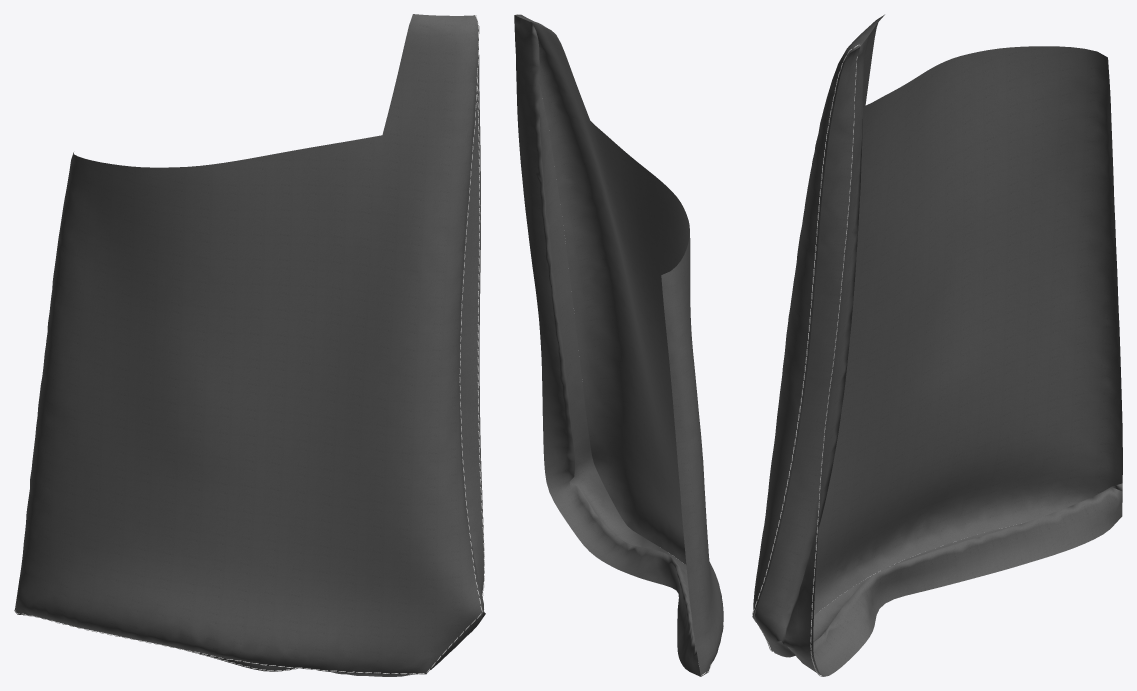
Rendered from xzyouqdouq.glb.
The picture shows the model from 3 angles, left to right: view 1: azimuth 30°, elevation 25°; view 2: azimuth 150°, elevation 25°; view 3: azimuth 270°, elevation 25°; orthographic projection. The views are drawn at different scales.
Parts seen in each view (by area): view 1: xzyouqdouq, _1; view 2: xzyouqdouq; view 3: xzyouqdouq, _1.
Boxes of the visible parts, bbox=[...] form: xzyouqdouq: bbox=[15, 14, 485, 676]; _1: bbox=[14, 15, 484, 674]; xzyouqdouq: bbox=[514, 14, 723, 676]; xzyouqdouq: bbox=[753, 14, 1122, 676]; _1: bbox=[752, 44, 860, 676].
Bounding box in the file's own units: 1.61 × 2.79 × 1.39.
2 materials, 2 textured.
